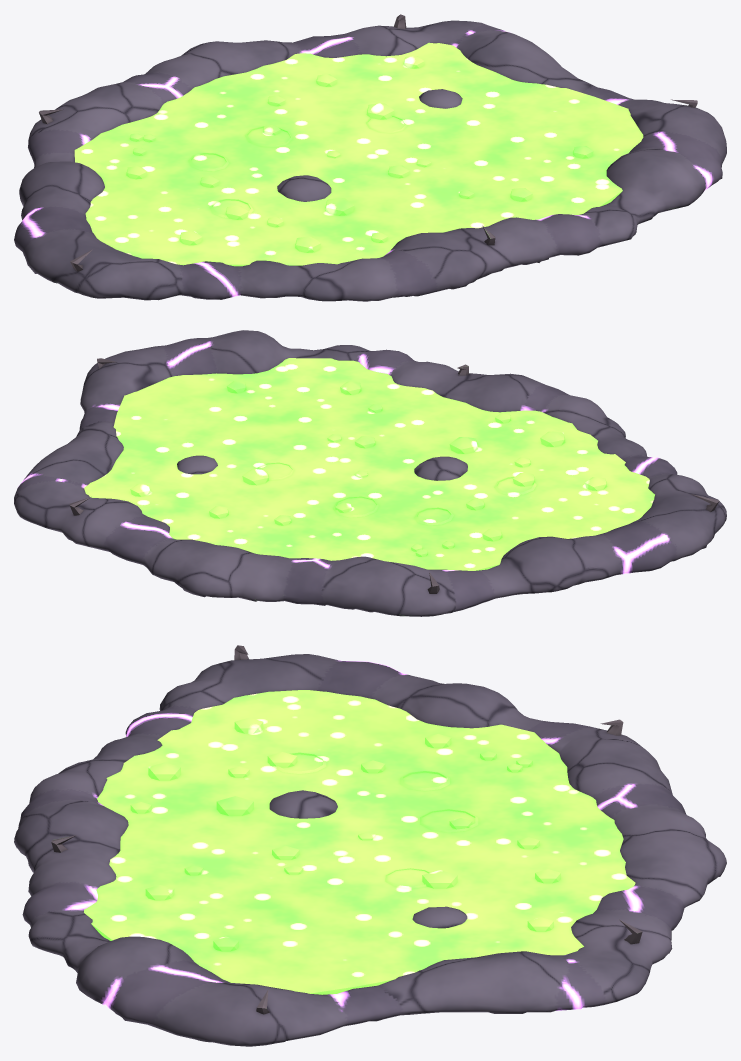
File: lago_acido.fbx
3 renders of one model, top to bottom at view 1: azimuth 30°, elevation 25°; view 2: azimuth 150°, elevation 25°; view 3: azimuth 270°, elevation 25°, orthographic. The views are drawn at different scales.
Parts seen in each view (by area): view 1: acido_neon, orilla; view 2: acido_neon, orilla; view 3: acido_neon, orilla.
Part boxes in pixels (left/top/right/bottom): acido_neon: left=74, top=42, right=643, bottom=266; orilla: left=14, top=14, right=726, bottom=301; acido_neon: left=84, top=358, right=654, bottom=570; orilla: left=14, top=330, right=726, bottom=616; acido_neon: left=84, top=690, right=635, bottom=994; orilla: left=14, top=645, right=726, bottom=1046.
Bounding box in the file's own units: 10 × 0.5047 × 8.
1 material, 1 textured.
